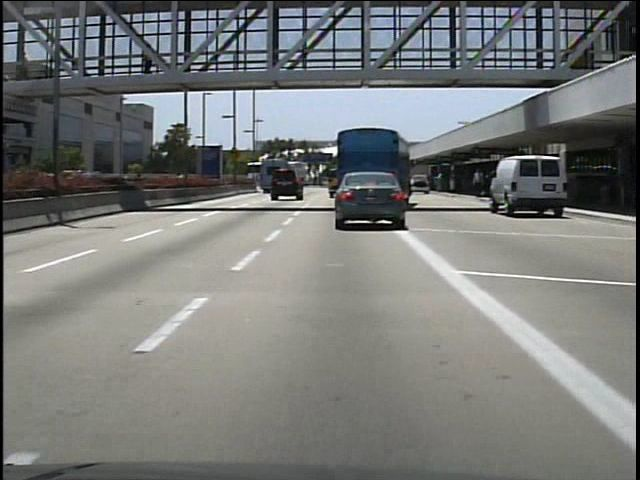person: (608, 167, 630, 212), (140, 41, 160, 87), (18, 49, 36, 83), (471, 165, 486, 199)
